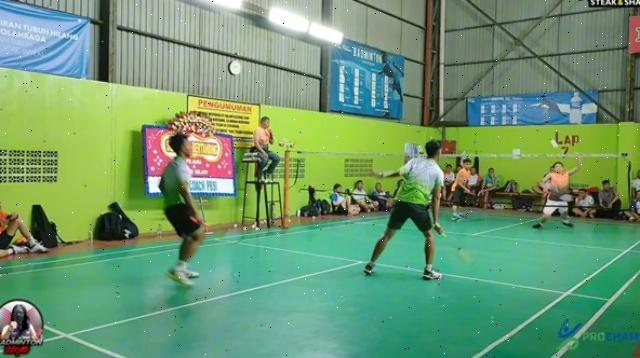Shuttlecock: (548, 137, 562, 151)
